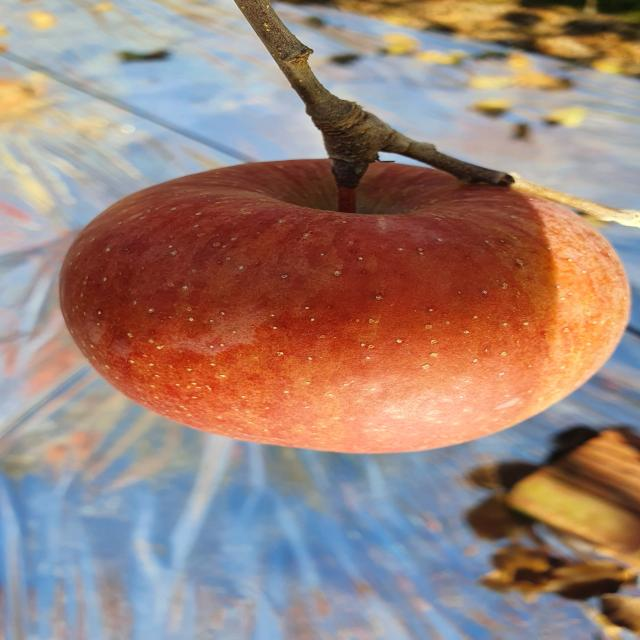fresh: (44, 151, 640, 467)
